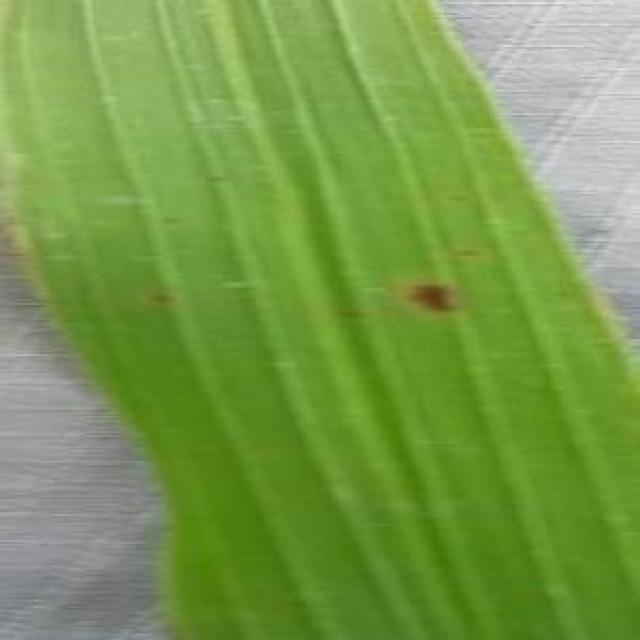Brown_Spot: (405, 275, 463, 320), (456, 242, 494, 267), (149, 285, 176, 312)
